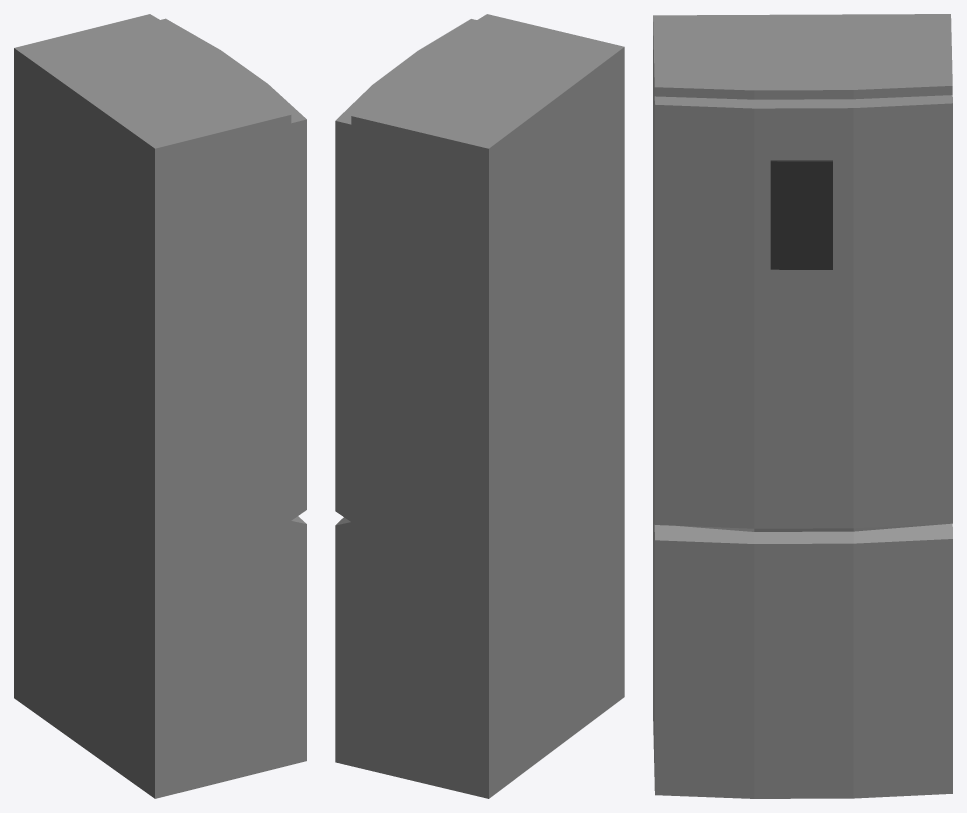
Rendered from Fridge_2.fbx.
3 views of the same model, side by side, from view 1: azimuth 30°, elevation 25°; view 2: azimuth 150°, elevation 25°; view 3: azimuth 270°, elevation 25° (orthographic). The views are drawn at different scales.
Visible parts, largest first — view 1: Fridge_2; view 2: Fridge_2; view 3: Fridge_2.
Part boxes in pixels (x1,y1,x2,y2): Fridge_2: (14, 14, 306, 798); Fridge_2: (335, 14, 624, 798); Fridge_2: (653, 14, 952, 798).
Bounding box in the file's own units: 85.19 × 125 × 321.
